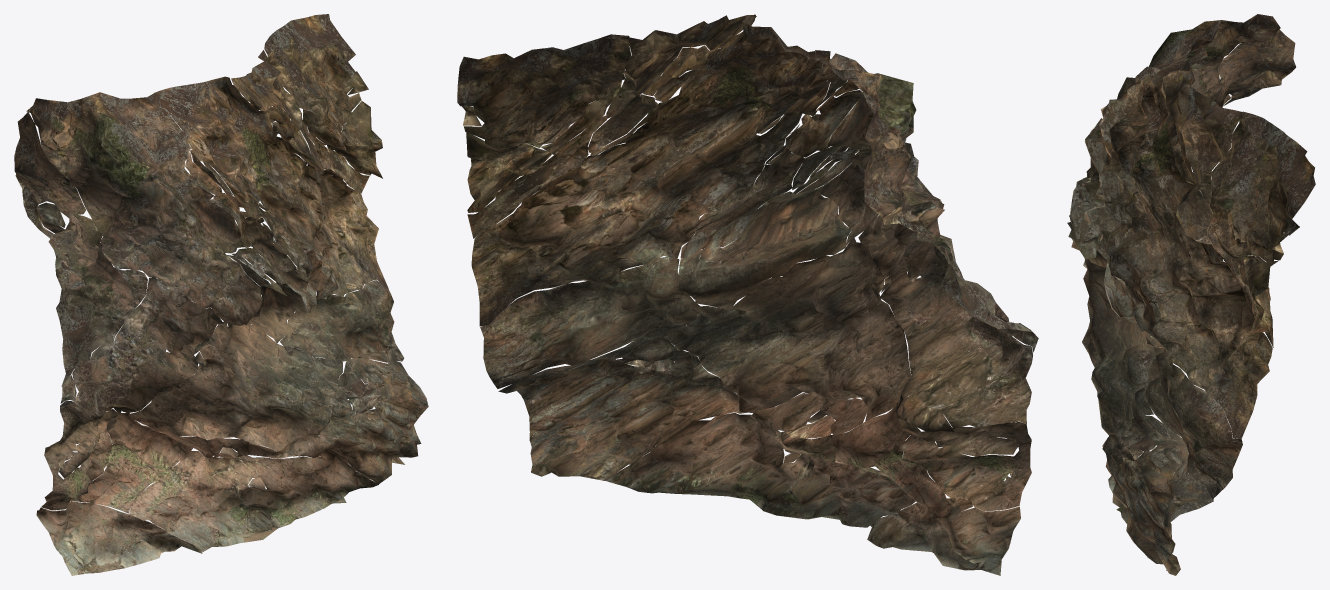
The model's file is mountainside.glb.
3 renders of one model, left to right at view 1: azimuth 30°, elevation 25°; view 2: azimuth 150°, elevation 25°; view 3: azimuth 270°, elevation 25°, orthographic. The views are drawn at different scales.
Visible parts, largest first — view 1: mountainside; view 2: mountainside; view 3: mountainside.
Boxes of the visible parts, x1,y1,x2,y2 form: mountainside: [14, 14, 428, 575]; mountainside: [457, 14, 1038, 575]; mountainside: [1067, 14, 1315, 575].
Size of the model in its own units: 0.9595 by 1 by 0.5193.
Materials: 1 (1 with a texture image).
